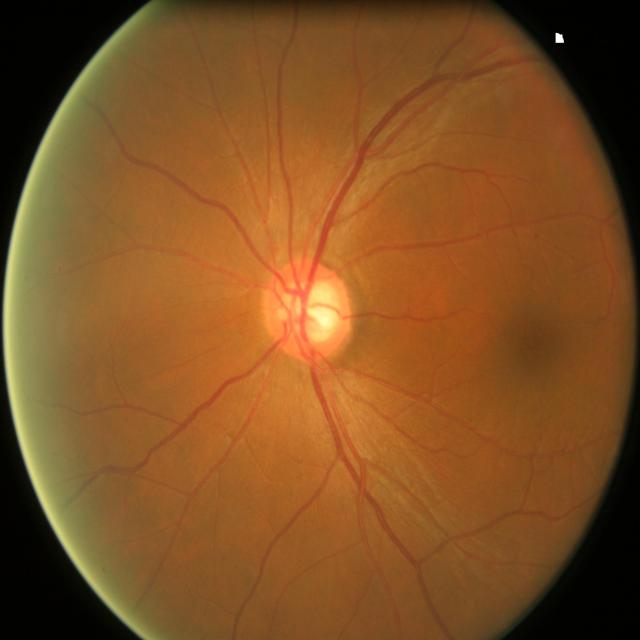OC: (286, 279, 341, 343)
OD: (261, 256, 352, 360)
